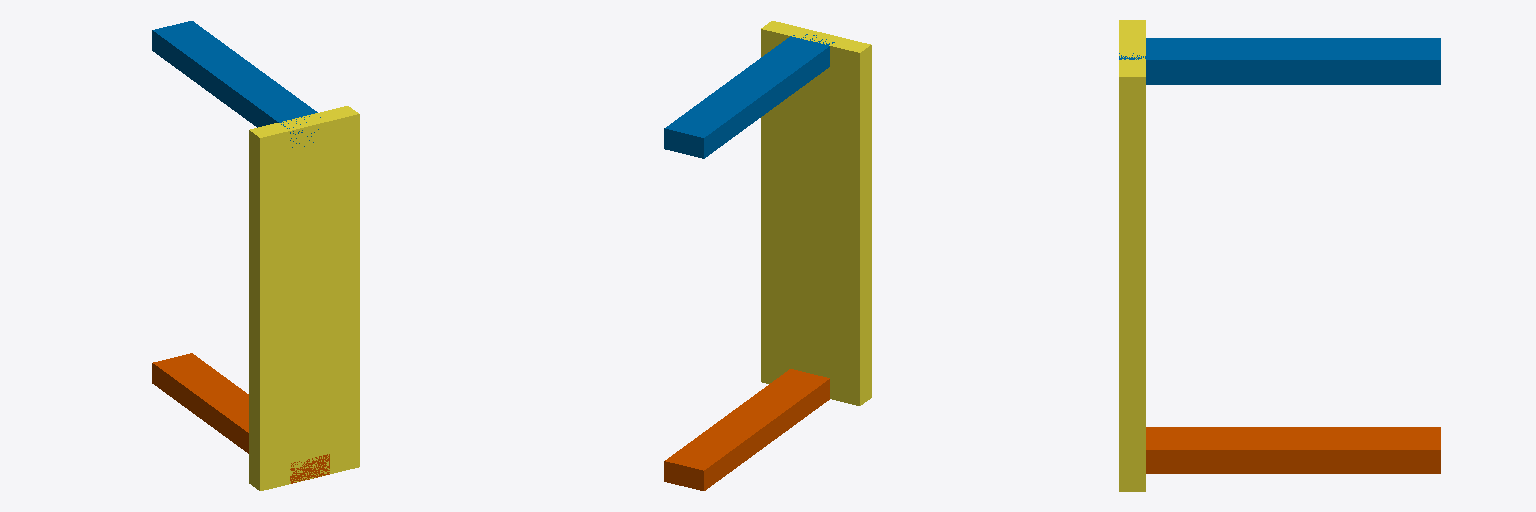
URDF robot description (assembled_robot):
<?xml version="1.0" ?>
<robot name="assembled_robot" xmlns:xacro="http://ros.org/wiki/xacro">
  <!-- THE ROBOT -->
  <link name="world"/>
  <joint name="world_joint" type="fixed">
    <parent link="world"/>
    <child link="simple_arm_base_link"/>
    <origin rpy="0.0 0.0 0.0" xyz="0.0 0.0 0.0"/>
  </joint>
  <link name="simple_arm_base_link">
    <visual>
      <geometry>
        <mesh filename="ur5_meshes/base.dae"/>
      </geometry>
      <material name="LightGrey">
        <color rgba="0.7 0.7 0.7 1.0"/>
      </material>
    </visual>
    <collision>
      <geometry>
        <mesh filename="ur5_meshes/base.stl"/>
      </geometry>
    </collision>
    <inertial>
      <mass value="4.0"/>
      <origin rpy="0 0 0" xyz="0.0 0.0 0.0"/>
      <inertia ixx="0.00443333156" ixy="0.0" ixz="0.0" iyy="0.00443333156" iyz="0.0" izz="0.0072"/>
    </inertial>
  </link>
  <joint name="simple_arm_shoulder_pan_joint" type="revolute">
    <parent link="simple_arm_base_link"/>
    <child link="simple_arm_shoulder_link"/>
    <origin rpy="0.0 0.0 0.0" xyz="0.0 0.0 0.089159"/>
    <axis xyz="0 0 1"/>
    <limit effort="150.0" lower="-6.28318530718" upper="6.28318530718" velocity="3.15"/>
    <dynamics damping="0.0" friction="0.0"/>
  </joint>
  <link name="simple_arm_shoulder_link">
    <visual>
      <geometry>
        <mesh filename="ur5_meshes/shoulder.dae"/>
      </geometry>
      <material name="LightGrey">
        <color rgba="0.7 0.7 0.7 1.0"/>
      </material>
    </visual>
    <collision>
      <geometry>
        <mesh filename="ur5_meshes/shoulder.stl"/>
      </geometry>
    </collision>
    <inertial>
      <mass value="3.7"/>
      <origin rpy="0 0 0" xyz="0.0 0.0 0.0"/>
      <inertia ixx="0.010267495893" ixy="0.0" ixz="0.0" iyy="0.010267495893" iyz="0.0" izz="0.00666"/>
    </inertial>
  </link>
  <joint name="simple_arm_shoulder_lift_joint" type="revolute">
    <parent link="simple_arm_shoulder_link"/>
    <child link="simple_arm_upper_arm_link"/>
    <origin rpy="0.0 1.57079632679 0.0" xyz="0.0 0.13585 0.0"/>
    <axis xyz="0 1 0"/>
    <limit effort="150.0" lower="-6.28318530718" upper="6.28318530718" velocity="3.15"/>
    <dynamics damping="0.0" friction="0.0"/>
  </joint>
  <link name="simple_arm_upper_arm_link">
    <visual>
      <geometry>
        <mesh filename="ur5_meshes/upperarm.dae"/>
      </geometry>
      <material name="LightGrey">
        <color rgba="0.7 0.7 0.7 1.0"/>
      </material>
    </visual>
    <collision>
      <geometry>
        <mesh filename="ur5_meshes/upperarm.stl"/>
      </geometry>
    </collision>
    <inertial>
      <mass value="8.393"/>
      <origin rpy="0 0 0" xyz="0.0 0.0 0.28"/>
      <inertia ixx="0.22689067591" ixy="0.0" ixz="0.0" iyy="0.22689067591" iyz="0.0" izz="0.0151074"/>
    </inertial>
  </link>
  <joint name="simple_arm_elbow_joint" type="revolute">
    <parent link="simple_arm_upper_arm_link"/>
    <child link="simple_arm_forearm_link"/>
    <origin rpy="0.0 0.0 0.0" xyz="0.0 -0.1197 0.425"/>
    <axis xyz="0 1 0"/>
    <limit effort="150.0" lower="-3.14159265359" upper="3.14159265359" velocity="3.15"/>
    <dynamics damping="0.0" friction="0.0"/>
  </joint>
  <link name="simple_arm_forearm_link">
    <visual>
      <geometry>
        <mesh filename="ur5_meshes/forearm.dae"/>
      </geometry>
      <material name="LightGrey">
        <color rgba="0.7 0.7 0.7 1.0"/>
      </material>
    </visual>
    <collision>
      <geometry>
        <mesh filename="ur5_meshes/forearm.stl"/>
      </geometry>
    </collision>
    <inertial>
      <mass value="2.275"/>
      <origin rpy="0 0 0" xyz="0.0 0.0 0.25"/>
      <inertia ixx="0.049443313556" ixy="0.0" ixz="0.0" iyy="0.049443313556" iyz="0.0" izz="0.004095"/>
    </inertial>
  </link>
  <joint name="simple_arm_wrist_1_joint" type="revolute">
    <parent link="simple_arm_forearm_link"/>
    <child link="simple_arm_wrist_1_link"/>
    <origin rpy="0.0 1.57079632679 0.0" xyz="0.0 0.0 0.39225"/>
    <axis xyz="0 1 0"/>
    <limit effort="28.0" lower="-6.28318530718" upper="6.28318530718" velocity="3.2"/>
    <dynamics damping="0.0" friction="0.0"/>
  </joint>
  <link name="simple_arm_wrist_1_link">
    <visual>
      <geometry>
        <mesh filename="ur5_meshes/wrist1.dae"/>
      </geometry>
      <material name="LightGrey">
        <color rgba="0.7 0.7 0.7 1.0"/>
      </material>
    </visual>
    <collision>
      <geometry>
        <mesh filename="ur5_meshes/wrist1.stl"/>
      </geometry>
    </collision>
    <inertial>
      <mass value="1.219"/>
      <origin rpy="0 0 0" xyz="0.0 0.0 0.0"/>
      <inertia ixx="0.111172755531" ixy="0.0" ixz="0.0" iyy="0.111172755531" iyz="0.0" izz="0.21942"/>
    </inertial>
  </link>
  <joint name="simple_arm_wrist_2_joint" type="revolute">
    <parent link="simple_arm_wrist_1_link"/>
    <child link="simple_arm_wrist_2_link"/>
    <origin rpy="0.0 0.0 0.0" xyz="0.0 0.093 0.0"/>
    <axis xyz="0 0 1"/>
    <limit effort="28.0" lower="-6.28318530718" upper="6.28318530718" velocity="3.2"/>
    <dynamics damping="0.0" friction="0.0"/>
  </joint>
  <link name="simple_arm_wrist_2_link">
    <visual>
      <geometry>
        <mesh filename="ur5_meshes/wrist2.dae"/>
      </geometry>
      <material name="LightGrey">
        <color rgba="0.7 0.7 0.7 1.0"/>
      </material>
    </visual>
    <collision>
      <geometry>
        <mesh filename="ur5_meshes/wrist2.stl"/>
      </geometry>
    </collision>
    <inertial>
      <mass value="1.219"/>
      <origin rpy="0 0 0" xyz="0.0 0.0 0.0"/>
      <inertia ixx="0.111172755531" ixy="0.0" ixz="0.0" iyy="0.111172755531" iyz="0.0" izz="0.21942"/>
    </inertial>
  </link>
  <joint name="simple_arm_wrist_3_joint" type="revolute">
    <parent link="simple_arm_wrist_2_link"/>
    <child link="simple_arm_wrist_3_link"/>
    <origin rpy="0.0 0.0 0.0" xyz="0.0 0.0 0.09465"/>
    <axis xyz="0 1 0"/>
    <limit effort="28.0" lower="-6.28318530718" upper="6.28318530718" velocity="3.2"/>
    <dynamics damping="0.0" friction="0.0"/>
  </joint>
  <link name="simple_arm_wrist_3_link">
    <visual>
      <geometry>
        <mesh filename="ur5_meshes/wrist3.dae"/>
      </geometry>
      <material name="LightGrey">
        <color rgba="0.7 0.7 0.7 1.0"/>
      </material>
    </visual>
    <collision>
      <geometry>
        <mesh filename="ur5_meshes/wrist3.stl"/>
      </geometry>
    </collision>
    <inertial>
      <mass value="0.1879"/>
      <origin rpy="0 0 0" xyz="0.0 0.0 0.0"/>
      <inertia ixx="0.0171364731454" ixy="0.0" ixz="0.0" iyy="0.0171364731454" iyz="0.0" izz="0.033822"/>
    </inertial>
  </link>
  <joint name="simple_arm_ee_fixed_joint" type="fixed">
    <parent link="simple_arm_wrist_3_link"/>
    <child link="simple_arm_ee_link"/>
    <origin rpy="0.0 0.0 1.57079632679" xyz="0.0 0.0823 0.0"/>
  </joint>
  <link name="simple_arm_ee_link">
    <collision>
      <geometry>
        <box size="0.01 0.01 0.01"/>
      </geometry>
      <origin rpy="0 0 0" xyz="-0.01 0 0"/>
    </collision>
    <inertial>
      <mass value="0"/>
      <inertia ixx="0.0" ixy="0.0" ixz="0.0" iyy="0.0" iyz="0.0" izz="0.0"/>
    </inertial>
  </link>
  <transmission name="simple_arm_shoulder_pan_trans">
    <type>transmission_interface/SimpleTransmission</type>
    <joint name="simple_arm_shoulder_pan_joint">
      <hardwareInterface>hardware_interface/PositionJointInterface</hardwareInterface>
    </joint>
    <actuator name="simple_arm_shoulder_pan_motor">
      <mechanicalReduction>1</mechanicalReduction>
    </actuator>
  </transmission>
  <transmission name="simple_arm_shoulder_lift_trans">
    <type>transmission_interface/SimpleTransmission</type>
    <joint name="simple_arm_shoulder_lift_joint">
      <hardwareInterface>hardware_interface/PositionJointInterface</hardwareInterface>
    </joint>
    <actuator name="simple_arm_shoulder_lift_motor">
      <mechanicalReduction>1</mechanicalReduction>
    </actuator>
  </transmission>
  <transmission name="simple_arm_elbow_trans">
    <type>transmission_interface/SimpleTransmission</type>
    <joint name="simple_arm_elbow_joint">
      <hardwareInterface>hardware_interface/PositionJointInterface</hardwareInterface>
    </joint>
    <actuator name="simple_arm_elbow_motor">
      <mechanicalReduction>1</mechanicalReduction>
    </actuator>
  </transmission>
  <transmission name="simple_arm_wrist_1_trans">
    <type>transmission_interface/SimpleTransmission</type>
    <joint name="simple_arm_wrist_1_joint">
      <hardwareInterface>hardware_interface/PositionJointInterface</hardwareInterface>
    </joint>
    <actuator name="simple_arm_wrist_1_motor">
      <mechanicalReduction>1</mechanicalReduction>
    </actuator>
  </transmission>
  <transmission name="simple_arm_wrist_2_trans">
    <type>transmission_interface/SimpleTransmission</type>
    <joint name="simple_arm_wrist_2_joint">
      <hardwareInterface>hardware_interface/PositionJointInterface</hardwareInterface>
    </joint>
    <actuator name="simple_arm_wrist_2_motor">
      <mechanicalReduction>1</mechanicalReduction>
    </actuator>
  </transmission>
  <transmission name="simple_arm_wrist_3_trans">
    <type>transmission_interface/SimpleTransmission</type>
    <joint name="simple_arm_wrist_3_joint">
      <hardwareInterface>hardware_interface/PositionJointInterface</hardwareInterface>
    </joint>
    <actuator name="simple_arm_wrist_3_motor">
      <mechanicalReduction>1</mechanicalReduction>
    </actuator>
  </transmission>
  <!-- nothing to do here at the moment -->
  <!-- ROS base_link to UR 'Base' Coordinates transform -->
  <link name="simple_arm_base">
    <inertial>
      <mass value="0"/>
      <inertia ixx="0.0" ixy="0.0" ixz="0.0" iyy="0.0" iyz="0.0" izz="0.0"/>
    </inertial>
  </link>
  <joint name="simple_arm_base_link-base_fixed_joint" type="fixed">
    <!-- NOTE: this rotation is only needed as long as base_link itself is
                 not corrected wrt the real robot (ie: rotated over 180
                 degrees)
      -->
    <origin rpy="0 0 -3.14159265359" xyz="0 0 0"/>
    <parent link="simple_arm_base_link"/>
    <child link="simple_arm_base"/>
  </joint>
  <!-- Frame coincident with all-zeros TCP on UR controller -->
  <link name="simple_arm_tool0">
    <inertial>
      <mass value="0"/>
      <inertia ixx="0.0" ixy="0.0" ixz="0.0" iyy="0.0" iyz="0.0" izz="0.0"/>
    </inertial>
  </link>
  <joint name="simple_arm_wrist_3_link-tool0_fixed_joint" type="fixed">
    <origin rpy="-1.57079632679 0 0" xyz="0 0.0823 0"/>
    <parent link="simple_arm_wrist_3_link"/>
    <child link="simple_arm_tool0"/>
  </joint>
  <!-- base -->
  <joint name="simple_arm_tool0_simple_gripper_base_joint" type="fixed">
    <origin rpy="0 0 1.5708" xyz="0 0 0.0025"/>
    <parent link="simple_arm_tool0"/>
    <child link="simple_gripper_base"/>
  </joint>
  <link name="simple_gripper_base">
    <visual>
      <geometry>
        <box size="0.085 0.025 0.005"/>
      </geometry>
    </visual>
    <collision>
      <origin rpy="0 0 0" xyz="0.0 0.0 0.02"/>
      <geometry>
        <box size="0.005 0.0025 0.005"/>
      </geometry>
    </collision>
    <inertial>
      <origin rpy="0 0 0" xyz="0.0 0.0 0.0"/>
      <mass value="1.0"/>
      <inertia ixx="1.0" ixy="0.0" ixz="0.0" iyy="1.0" iyz="0.0" izz="1.0"/>
    </inertial>
    <contact>
      <lateral_friction value="20.0"/>
      <spinning_friction value="0.0"/>
      <rolling_friction value="0.0"/>
    </contact>
  </link>
  <!-- right finger -->
  <joint name="simple_gripper_right_finger_joint" type="prismatic">
    <origin rpy="0 0 0" xyz="0.04 0.0 0.0275"/>
    <parent link="simple_gripper_base"/>
    <child link="simple_gripper_right_finger"/>
    <axis xyz="-1 0 0"/>
    <limit effort="60" lower="0.0" upper="0.0360" velocity="0.02"/>
    <dynamics damping="200"/>
  </joint>
  <link name="simple_gripper_right_finger">
    <visual>
      <geometry>
        <box size="0.005 0.01 0.06"/>
      </geometry>
    </visual>
    <collision>
      <origin rpy="0 0 0" xyz="0 0 0.0"/>
      <geometry>
        <!--<box size="0.005 0.005 0.0375"/>-->
        <box size="0.005 0.01 0.06"/>
      </geometry>
    </collision>
    <inertial>
      <origin rpy="0 0 0" xyz="0.0 0.0 0.0"/>
      <mass value="1.5"/>
      <inertia ixx="1.0" ixy="0.0" ixz="0.0" iyy="1.0" iyz="0.0" izz="1.0"/>
    </inertial>
    <contact>
      <lateral_friction value="20.0"/>
      <spinning_friction value="0.0"/>
      <rolling_friction value="0.0"/>
    </contact>
  </link>
  <!-- left finger -->
  <joint name="simple_gripper_left_finger_joint" type="prismatic">
    <origin rpy="0 0 0" xyz="-0.04 0.0 0.0275"/>
    <parent link="simple_gripper_base"/>
    <child link="simple_gripper_left_finger"/>
    <axis xyz="1 0 0"/>
    <limit effort="60" lower="0.0" upper="0.0360" velocity="0.02"/>
    <dynamics damping="200"/>
  </joint>
  <link name="simple_gripper_left_finger">
    <visual>
      <geometry>
        <box size="0.005 0.01 0.06"/>
      </geometry>
    </visual>
    <collision>
      <origin rpy="0 0 0" xyz="0 0 0.0"/>
      <geometry>
        <!--<box size="0.005 0.005 0.0375"/>-->
        <box size="0.005 0.01 0.06"/>
      </geometry>
    </collision>
    <inertial>
      <origin rpy="0 0 0" xyz="0.0 0.0 0.0"/>
      <mass value="1.5"/>
      <inertia ixx="1.0" ixy="0.0" ixz="0.0" iyy="1.0" iyz="0.0" izz="1.0"/>
    </inertial>
    <contact>
      <lateral_friction value="20.0"/>
      <spinning_friction value="0.0"/>
      <rolling_friction value="0.0"/>
    </contact>
  </link>
  <!-- End effector tip -->
  <link name="simple_gripper_tip">
    <inertial>
      <mass value="0"/>
      <inertia ixx="0.0" ixy="0.0" ixz="0.0" iyy="0.0" iyz="0.0" izz="0.0"/>
    </inertial>
  </link>
  <joint name="simple_gripper_tip_joint" type="fixed">
    <origin rpy="0 0 0" xyz="0.0 0.0 0.040"/>
    <parent link="simple_gripper_base"/>
    <child link="simple_gripper_tip"/>
  </joint>
</robot>

--- Render facts (derived) ---
3 views of the same robot in one strip: view 1: azimuth 30°, elevation 25°; view 2: azimuth 150°, elevation 25°; view 3: azimuth 270°, elevation 25° (orthographic).
Robot: assembled_robot — 15 links, 14 joints (6 revolute, 2 prismatic, 6 fixed); root link world; default pose: every joint at zero.
Links seen in each view (by area): view 1: simple_gripper_base, simple_gripper_right_finger, simple_gripper_left_finger; view 2: simple_gripper_base, simple_gripper_right_finger, simple_gripper_left_finger; view 3: simple_gripper_right_finger, simple_gripper_left_finger, simple_gripper_base.
Boxes of the visible links, x1,y1,x2,y2 form: simple_gripper_base: (249, 106, 359, 490); simple_gripper_right_finger: (152, 21, 320, 147); simple_gripper_left_finger: (152, 353, 329, 483); simple_gripper_base: (761, 21, 871, 405); simple_gripper_right_finger: (664, 34, 834, 158); simple_gripper_left_finger: (664, 369, 829, 490); simple_gripper_right_finger: (1119, 38, 1440, 84); simple_gripper_left_finger: (1146, 427, 1440, 473); simple_gripper_base: (1119, 20, 1145, 491).
Bounding box of the posed robot: 0.025 × 0.06 × 0.085 m (x, y, z).
0 mesh visuals loaded from 7 distinct referenced files (none loaded); not drawn: 7 (reference not matched to a file when rendering).